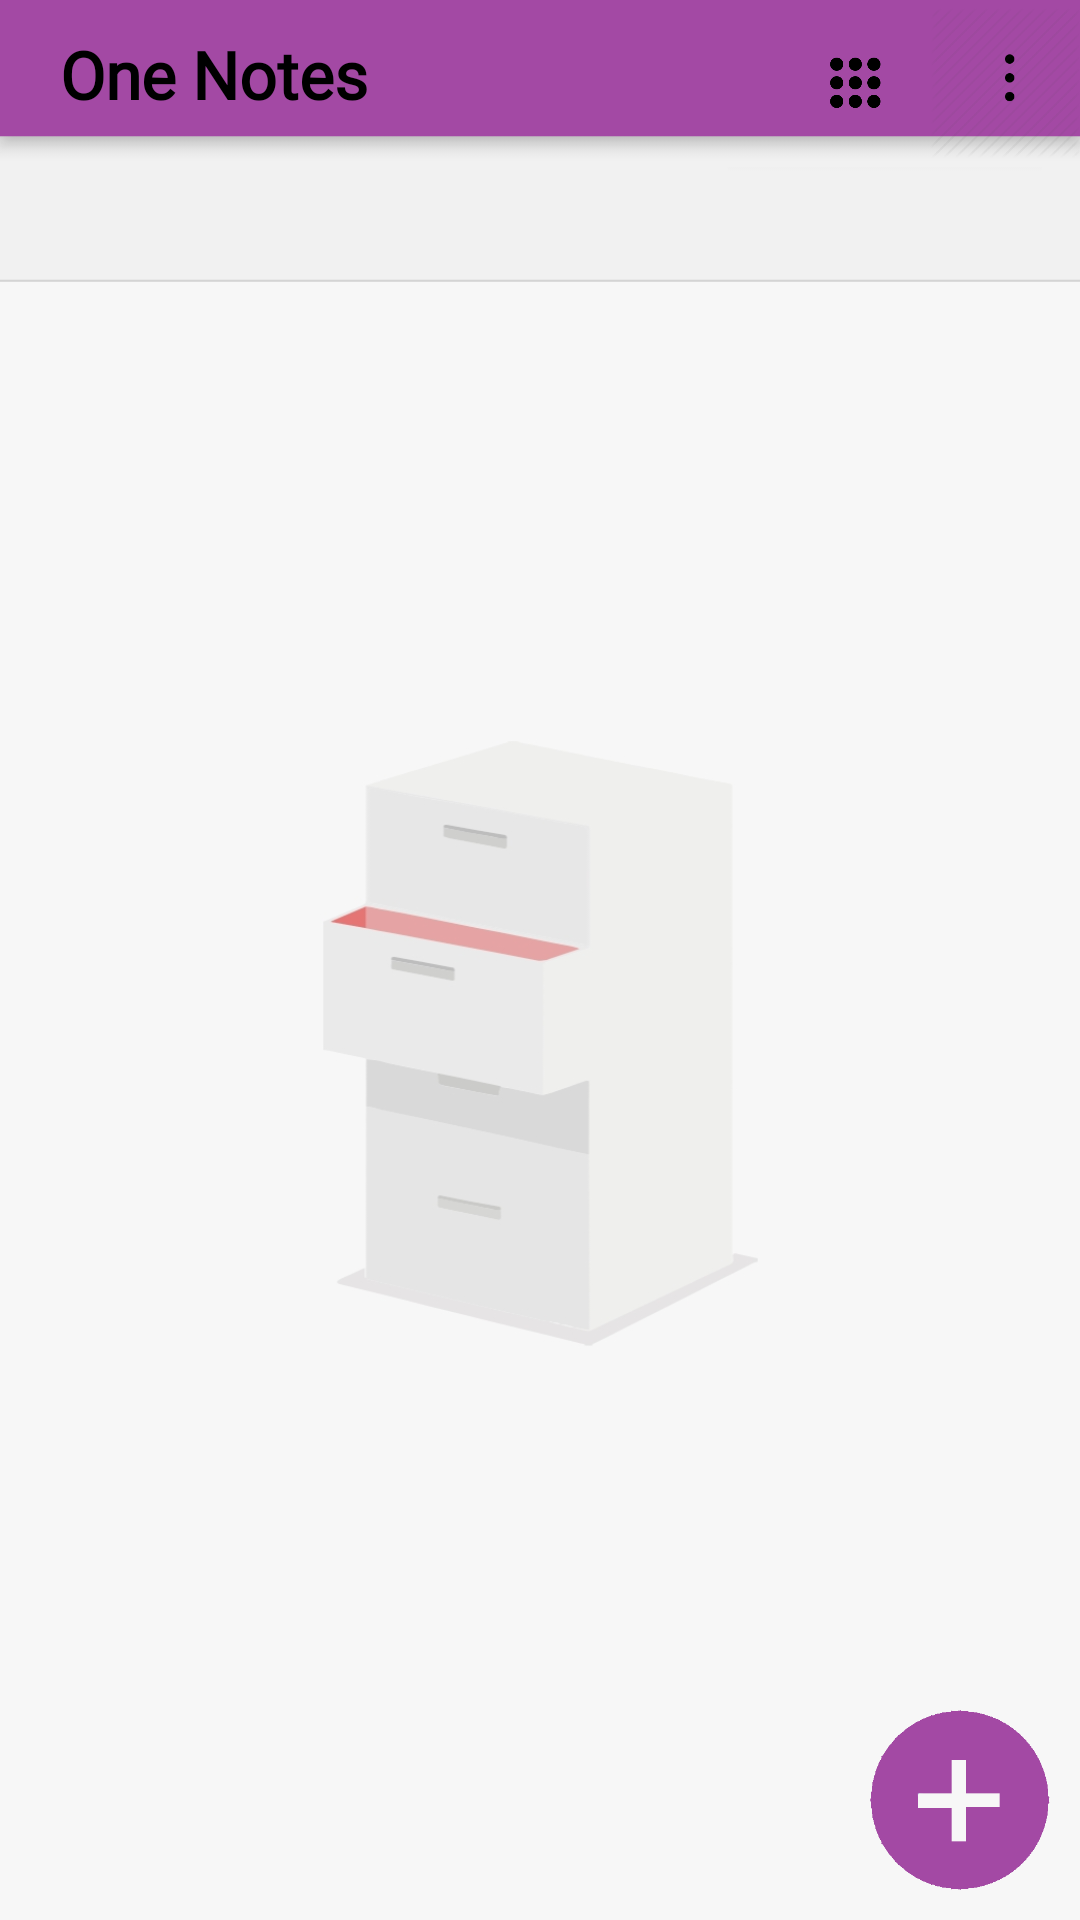

Locate icon controls on the screen. Image size 1080x1920, boxes as (x1, y1, x2, y2).
add plus open: (870, 1710, 1050, 1890)
